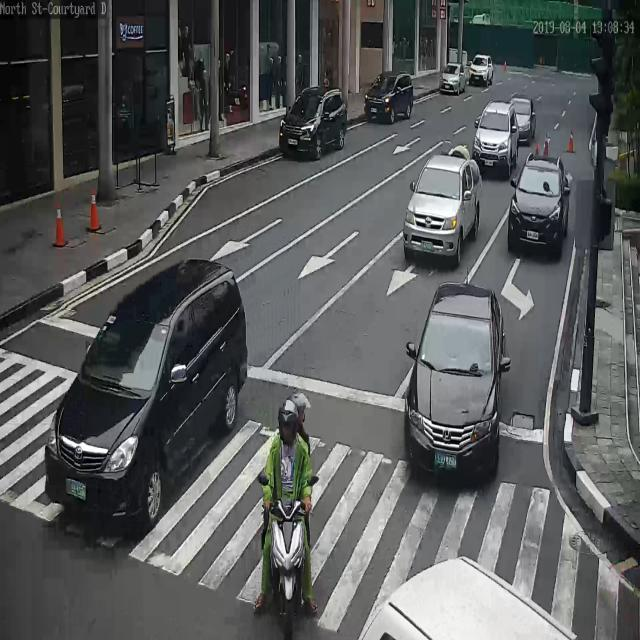car: (45, 259, 249, 528), (404, 285, 506, 478), (354, 554, 578, 640), (403, 155, 484, 262), (507, 154, 569, 255), (279, 89, 348, 163), (473, 104, 518, 173), (364, 74, 414, 127), (511, 95, 535, 141), (439, 64, 468, 97), (469, 55, 495, 87)
jeepney: (261, 391, 317, 640)
